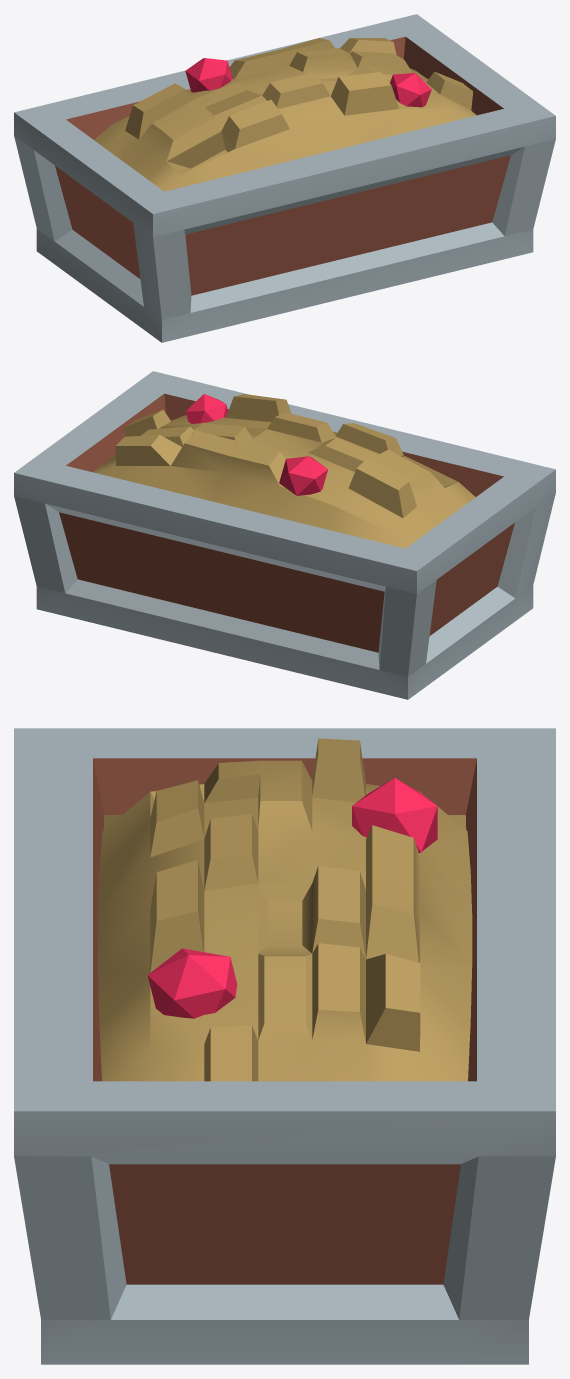
The model's file is kaykit-chest-uncommon.glb.
3 views of the same model, one above another, from view 1: azimuth 30°, elevation 25°; view 2: azimuth 150°, elevation 25°; view 3: azimuth 270°, elevation 25° (orthographic). The views are drawn at different scales.
Parts seen in each view (by area): view 1: chest_uncommon; view 2: chest_uncommon; view 3: chest_uncommon.
Part boxes in pixels (x1,y1,x2,y2): chest_uncommon: (14,14,555,342); chest_uncommon: (14,371,555,699); chest_uncommon: (14,728,555,1364).
Size of the model in its own units: 1.84 by 0.8098 by 1.1.
